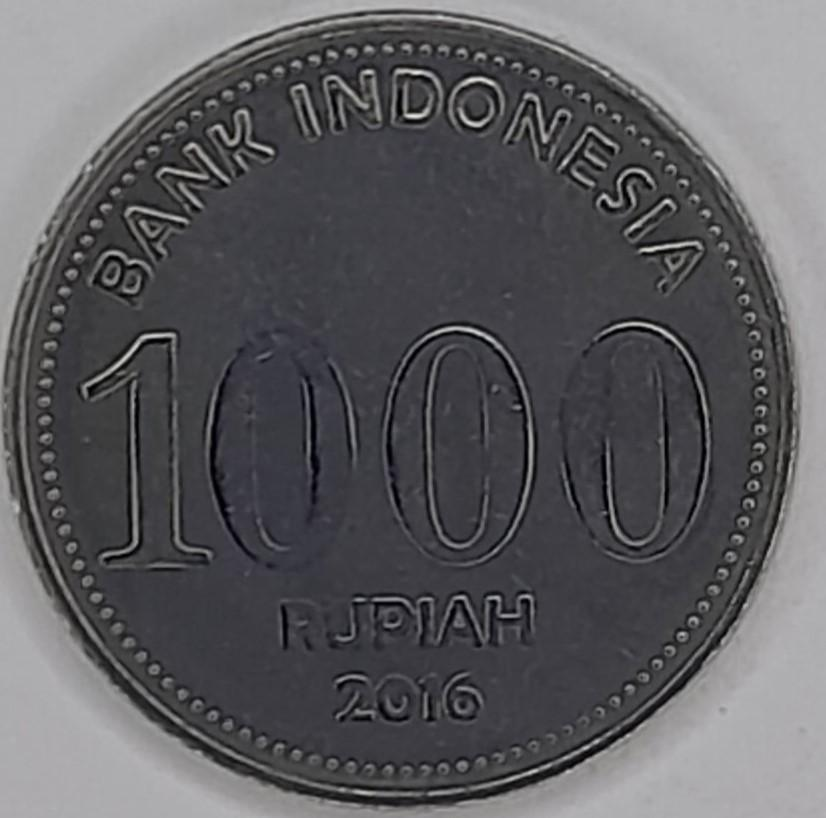coin_1000_e2016: (14, 16, 815, 818)
